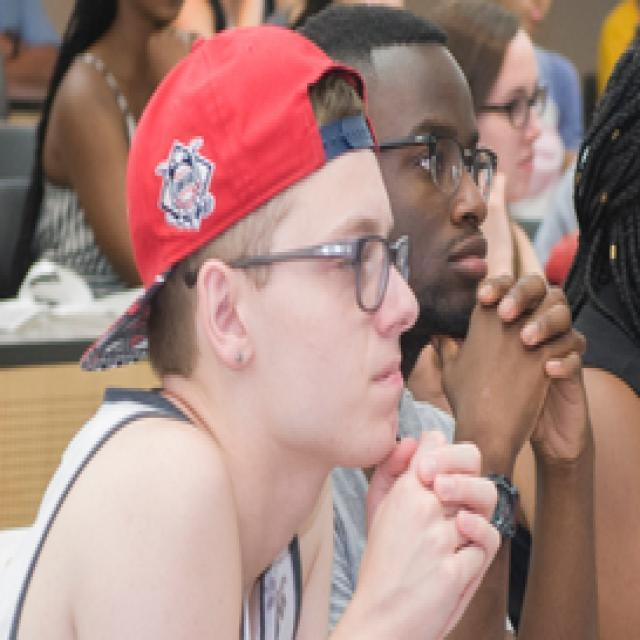Looking forward: (254, 140, 418, 472), (368, 43, 491, 344), (473, 29, 545, 202)
